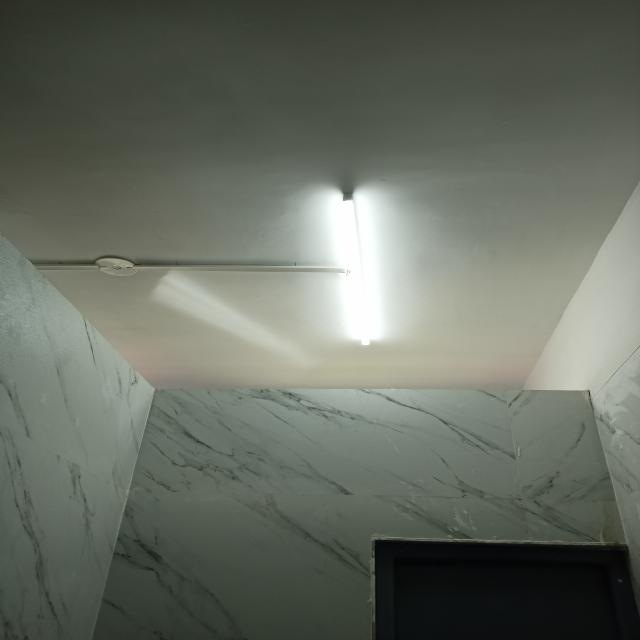fluorescent tube: (333, 188, 382, 349)
